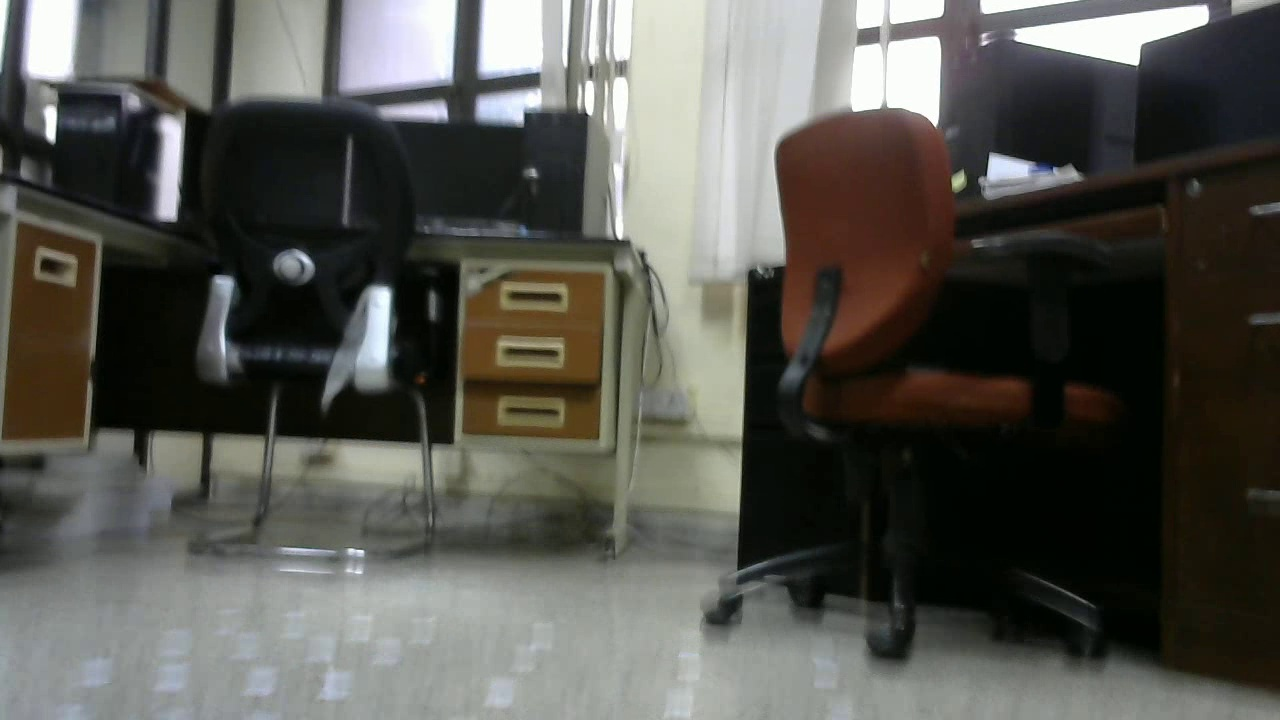chair: (701, 105, 1116, 658), (193, 95, 440, 562)
